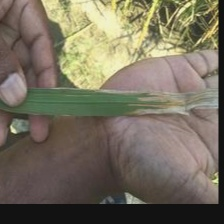Leaf_Blast: (56, 77, 216, 114)
